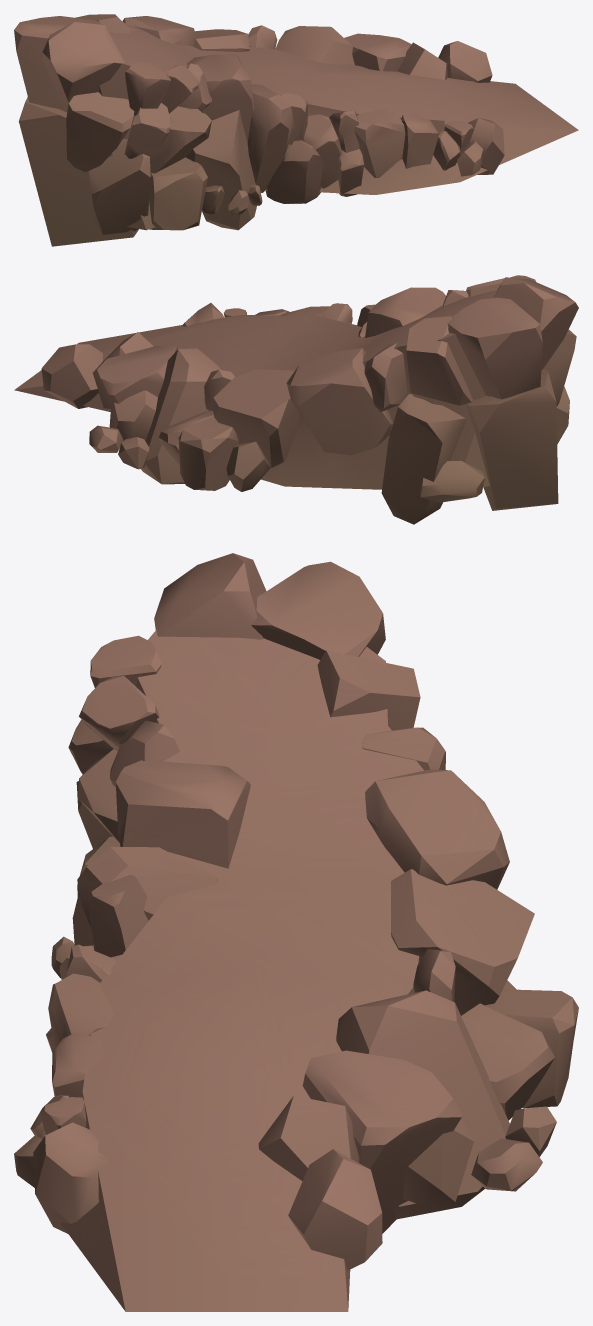
File: Rock01.fbx
The picture shows the model from 3 angles, top to bottom: view 1: azimuth 30°, elevation 25°; view 2: azimuth 150°, elevation 25°; view 3: azimuth 270°, elevation 25°; orthographic projection. The views are drawn at different scales.
Visible parts, largest first — view 1: Rock01; view 2: Rock01; view 3: Rock01.
Boxes of the visible parts, x1,y1,x2,y2 form: Rock01: [14, 14, 578, 246]; Rock01: [14, 275, 578, 524]; Rock01: [14, 553, 578, 1311].
Size of the model in its own units: 2094 by 884 by 1137.
